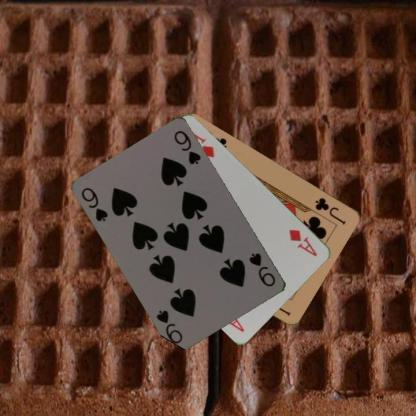9s: (78, 184, 110, 223), (247, 250, 277, 288)
Ad: (287, 226, 319, 258)
Jc: (312, 195, 348, 226)
